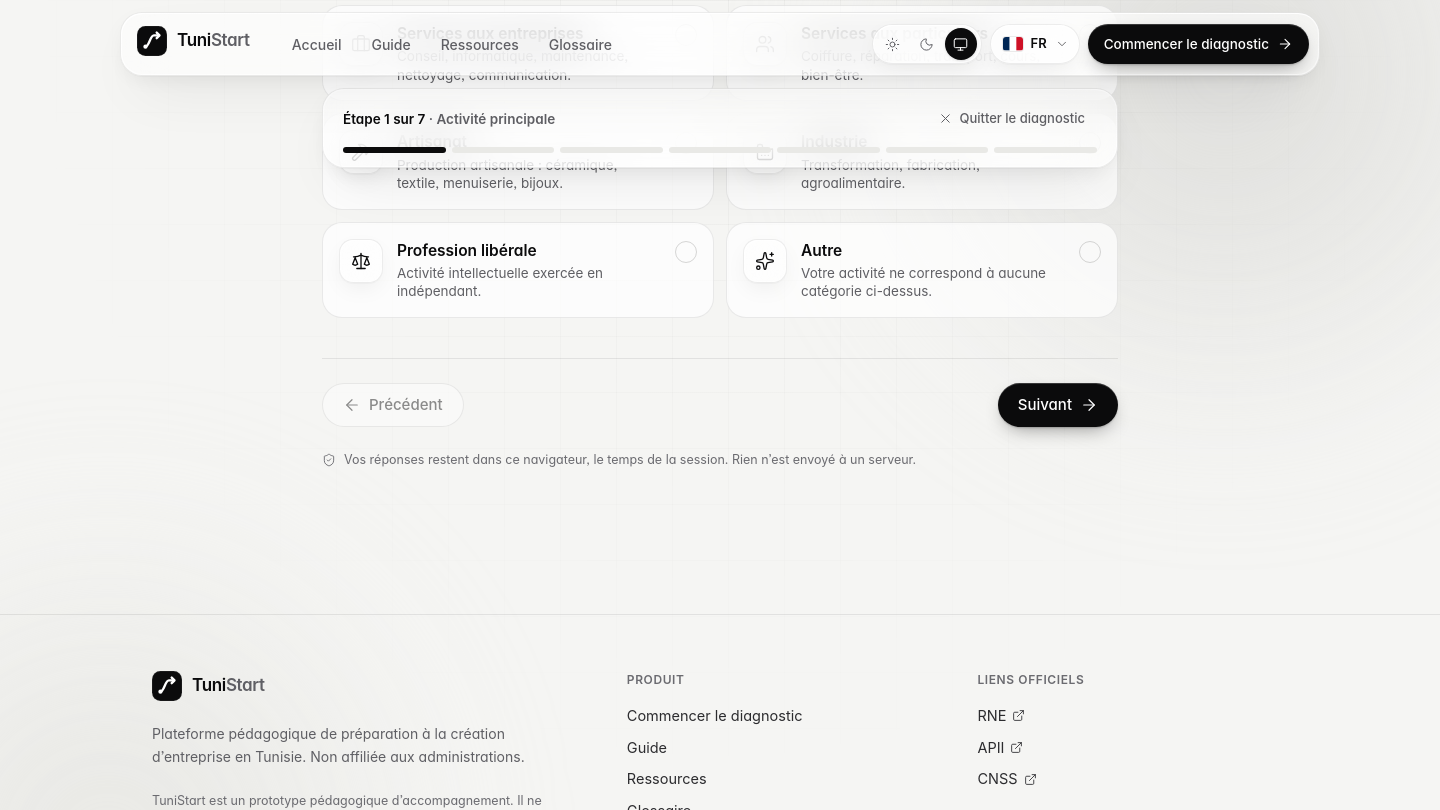
it: Diagnostic wizard › blocks Next with a French error, then advances and preserves the answer
(page scrolled)
What coordinates should you click on to do the following:
click the button "Suivant"
I would click on:
 (1058, 405)
Its box is [998, 383, 1118, 427].
(page scrolled)
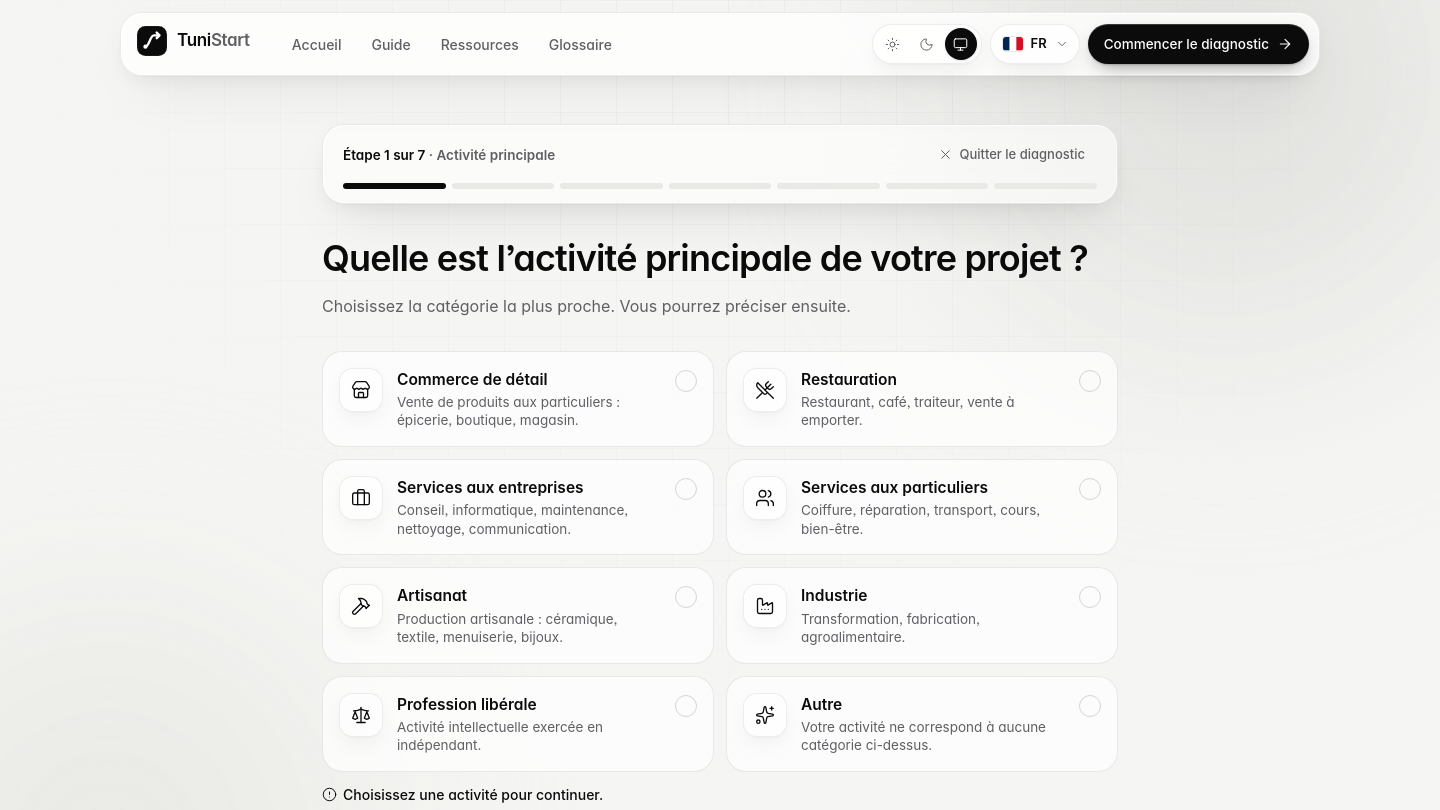
Now the message shows "Choisissez une activité", box [343, 786, 603, 803]
What coordinates should you click on to do the following:
click the radio button labelled "Commerce de détail"
I would click on:
 (518, 399)
Its box is [322, 350, 714, 447].
(page scrolled)
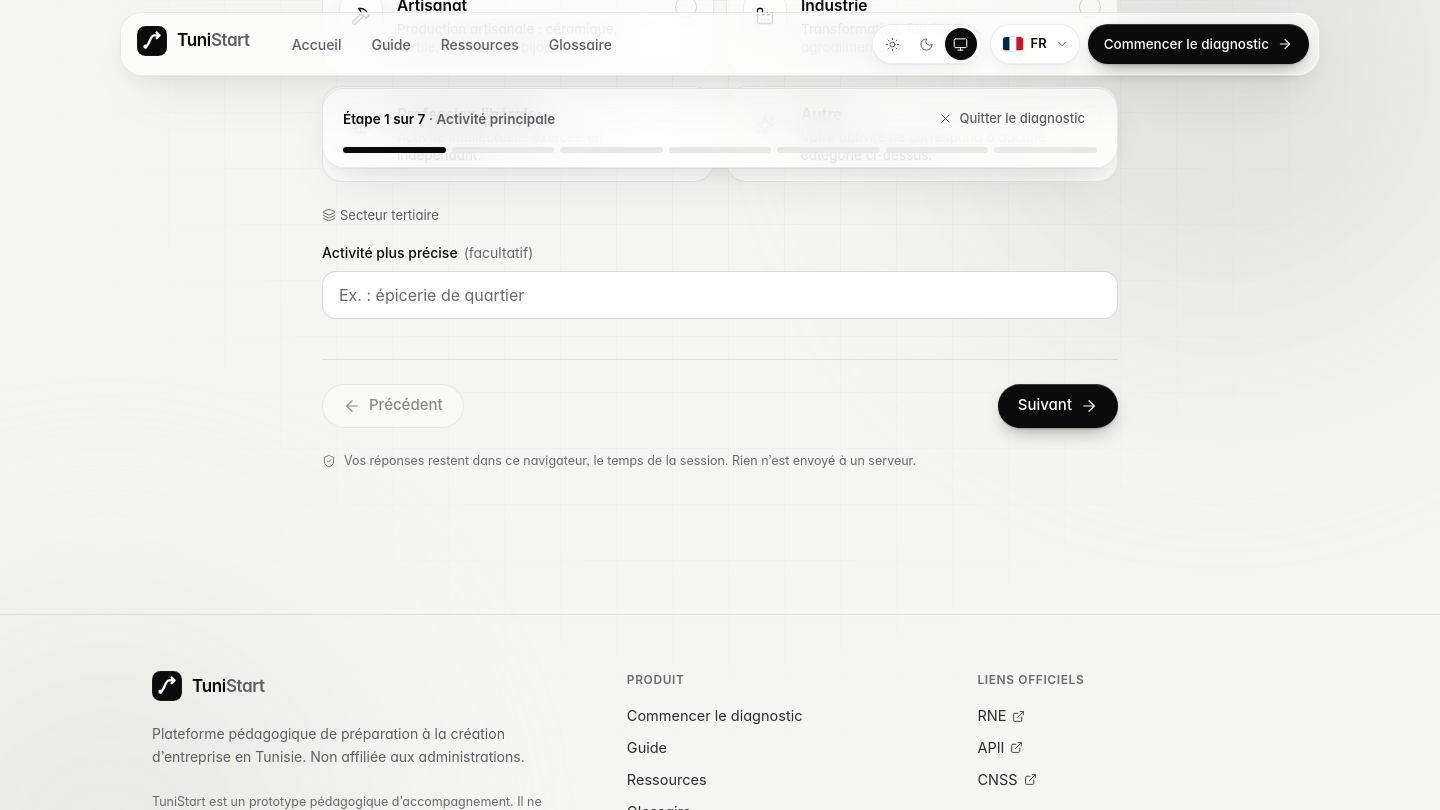
What coordinates should you click on to do the following:
click the button "Suivant"
I would click on:
 (1058, 406)
Its box is [998, 384, 1118, 428].
(page scrolled)
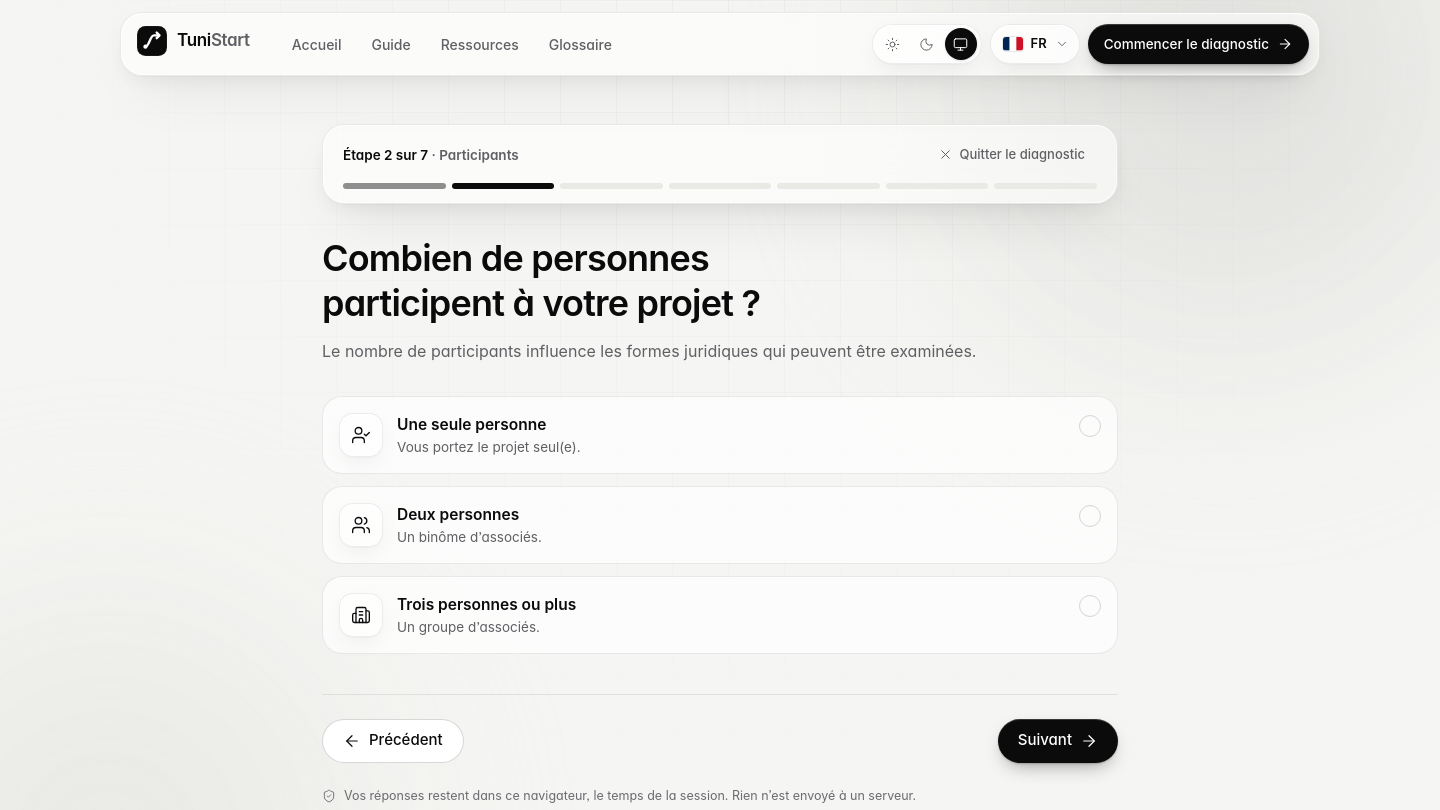
Now the heading "Combien de personnes participent à votre projet ?" is shown, box [322, 236, 760, 324]
What coordinates should you click on to do the following:
click the button "Précédent"
I would click on:
 (393, 740)
Its box is [322, 718, 464, 762].
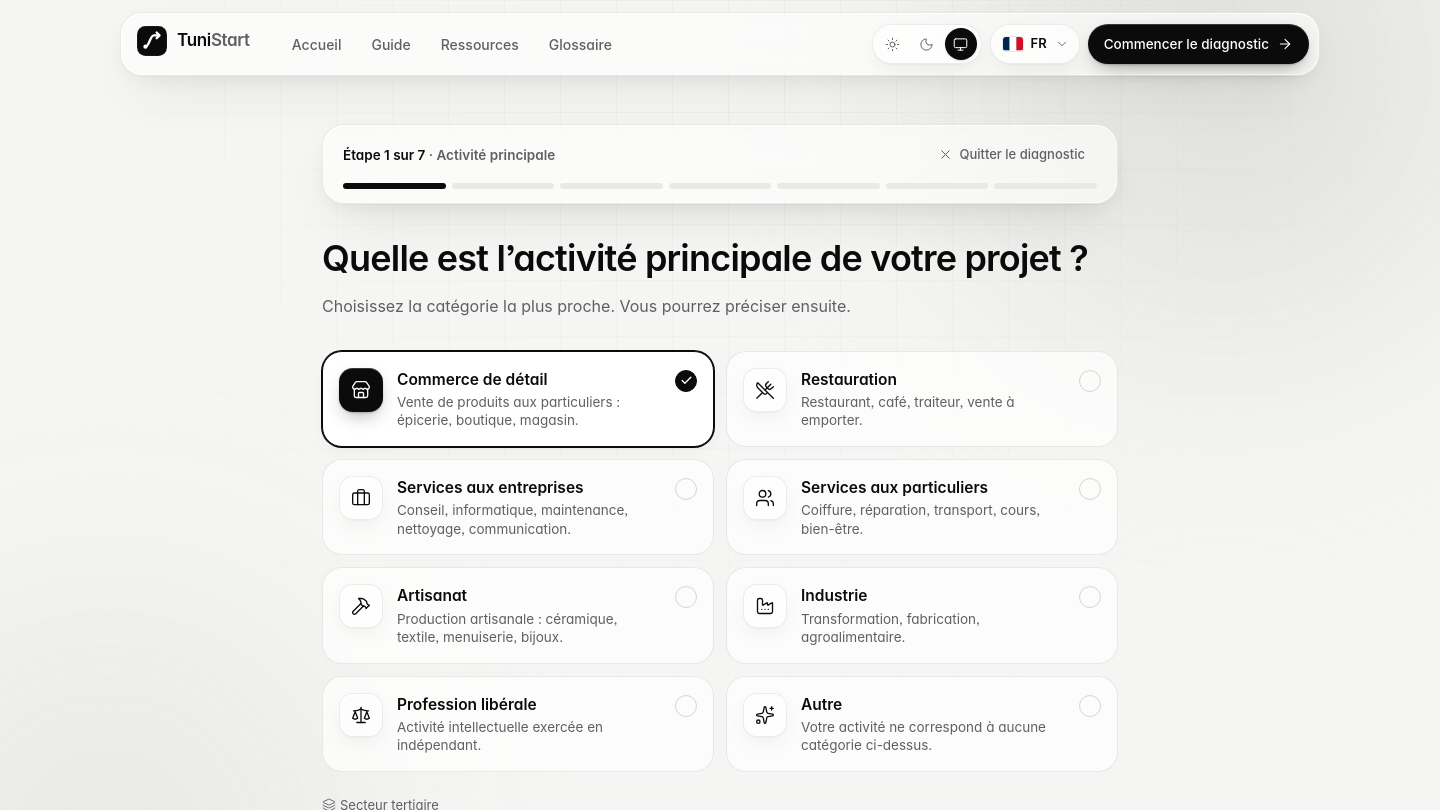
Now the radio button labelled "Commerce de détail" is checked, box [322, 350, 714, 447]
